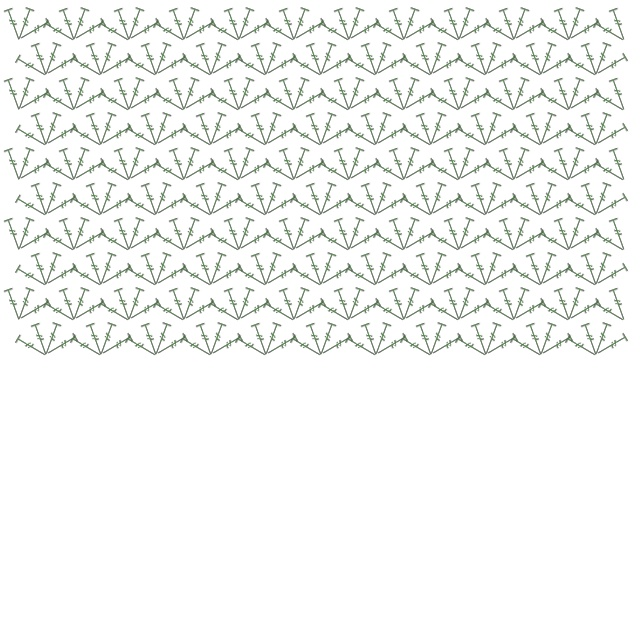fan: (17, 18, 52, 45), (43, 18, 78, 45), (72, 18, 107, 45), (98, 18, 133, 45), (127, 18, 162, 45), (153, 18, 188, 45), (182, 18, 217, 45), (208, 18, 243, 45), (237, 18, 272, 45), (263, 18, 298, 45), (292, 18, 327, 45), (318, 18, 353, 45), (347, 18, 382, 45), (373, 18, 408, 45), (402, 18, 437, 45), (428, 18, 463, 45), (457, 18, 492, 45), (483, 18, 518, 45), (512, 18, 547, 45), (538, 18, 573, 45), (567, 18, 602, 45), (593, 18, 628, 45), (15, 53, 50, 80), (44, 53, 79, 80), (70, 53, 105, 80), (99, 53, 134, 80), (125, 53, 160, 80), (154, 53, 189, 80), (180, 53, 215, 80), (209, 53, 244, 80), (235, 53, 270, 80), (264, 53, 299, 80), (290, 53, 325, 80), (319, 53, 354, 80), (345, 53, 380, 80), (374, 53, 409, 80), (400, 53, 435, 80), (429, 53, 464, 80), (455, 53, 490, 80), (484, 53, 519, 80), (510, 53, 545, 80), (539, 53, 574, 80), (565, 53, 600, 80), (594, 53, 629, 80), (17, 88, 52, 115), (43, 88, 78, 115), (72, 88, 107, 115), (98, 88, 133, 115), (127, 88, 162, 115), (153, 88, 188, 115), (182, 88, 217, 115), (208, 88, 243, 115), (237, 88, 272, 115), (263, 88, 298, 115), (292, 88, 327, 115), (318, 88, 353, 115), (347, 88, 382, 115), (373, 88, 408, 115), (402, 88, 437, 115), (428, 88, 463, 115), (457, 88, 492, 115), (483, 88, 518, 115), (512, 88, 547, 115), (538, 88, 573, 115), (567, 88, 602, 115), (593, 88, 628, 115), (15, 123, 50, 150), (44, 123, 79, 150), (70, 123, 105, 150), (99, 123, 134, 150), (125, 123, 160, 150), (154, 123, 189, 150), (180, 123, 215, 150), (209, 123, 244, 150), (235, 123, 270, 150), (264, 123, 299, 150), (290, 123, 325, 150), (319, 123, 354, 150), (345, 123, 380, 150), (374, 123, 409, 150), (400, 123, 435, 150), (429, 123, 464, 150), (455, 123, 490, 150), (484, 123, 519, 150), (510, 123, 545, 150), (539, 123, 574, 150), (565, 123, 600, 150), (594, 123, 629, 150), (17, 158, 52, 185), (43, 158, 78, 185), (72, 158, 107, 185), (98, 158, 133, 185), (127, 158, 162, 185), (153, 158, 188, 185), (182, 158, 217, 185), (208, 158, 243, 185), (237, 158, 272, 185), (263, 158, 298, 185), (292, 158, 327, 185), (318, 158, 353, 185), (347, 158, 382, 185), (373, 158, 408, 185), (402, 158, 437, 185), (428, 158, 463, 185), (457, 158, 492, 185), (483, 158, 518, 185), (512, 158, 547, 185), (538, 158, 573, 185), (567, 158, 602, 185), (593, 158, 628, 185), (15, 193, 50, 220), (44, 193, 79, 220), (70, 193, 105, 220), (99, 193, 134, 220), (125, 193, 160, 220), (154, 193, 189, 220), (180, 193, 215, 220), (209, 193, 244, 220), (235, 193, 270, 220), (264, 193, 299, 220), (290, 193, 325, 220), (319, 193, 354, 220), (345, 193, 380, 220), (374, 193, 409, 220), (400, 193, 435, 220), (429, 193, 464, 220), (455, 193, 490, 220), (484, 193, 519, 220), (510, 193, 545, 220), (539, 193, 574, 220), (565, 193, 600, 220), (594, 193, 629, 220), (17, 228, 52, 255), (43, 228, 78, 255), (72, 228, 107, 255), (98, 228, 133, 255), (127, 228, 162, 255), (153, 228, 188, 255), (182, 228, 217, 255), (208, 228, 243, 255), (237, 228, 272, 255), (263, 228, 298, 255), (292, 228, 327, 255), (318, 228, 353, 255), (347, 228, 382, 255), (373, 228, 408, 255), (402, 228, 437, 255), (428, 228, 463, 255), (457, 228, 492, 255), (483, 228, 518, 255), (512, 228, 547, 255), (538, 228, 573, 255), (567, 228, 602, 255), (593, 228, 628, 255), (15, 263, 50, 290), (44, 263, 79, 290), (70, 263, 105, 290), (99, 263, 134, 290), (125, 263, 160, 290), (154, 263, 189, 290), (180, 263, 215, 290), (209, 263, 244, 290), (235, 263, 270, 290), (264, 263, 299, 290), (290, 263, 325, 290), (319, 263, 354, 290), (345, 263, 380, 290), (374, 263, 409, 290), (400, 263, 435, 290), (429, 263, 464, 290), (455, 263, 490, 290), (484, 263, 519, 290), (510, 263, 545, 290), (539, 263, 574, 290), (565, 263, 600, 290), (594, 263, 629, 290), (17, 298, 52, 325), (43, 298, 78, 325), (72, 298, 107, 325), (98, 298, 133, 325), (127, 298, 162, 325), (153, 298, 188, 325), (182, 298, 217, 325), (208, 298, 243, 325), (237, 298, 272, 325), (263, 298, 298, 325), (292, 298, 327, 325), (318, 298, 353, 325), (347, 298, 382, 325), (373, 298, 408, 325), (402, 298, 437, 325), (428, 298, 463, 325), (457, 298, 492, 325), (483, 298, 518, 325), (512, 298, 547, 325), (538, 298, 573, 325), (567, 298, 602, 325), (593, 298, 628, 325), (15, 333, 50, 360), (44, 333, 79, 360), (70, 333, 105, 360), (99, 333, 134, 360), (125, 333, 160, 360), (154, 333, 189, 360), (180, 333, 215, 360), (209, 333, 244, 360), (235, 333, 270, 360), (264, 333, 299, 360), (290, 333, 325, 360), (319, 333, 354, 360), (345, 333, 380, 360), (374, 333, 409, 360), (400, 333, 435, 360), (429, 333, 464, 360), (455, 333, 490, 360), (484, 333, 519, 360), (510, 333, 545, 360), (539, 333, 574, 360), (565, 333, 600, 360), (594, 333, 629, 360), (3, 6, 26, 42), (14, 6, 37, 42), (58, 6, 81, 42), (69, 6, 92, 42), (113, 6, 136, 42), (124, 6, 147, 42), (168, 6, 191, 42), (179, 6, 202, 42), (223, 6, 246, 42), (234, 6, 257, 42), (278, 6, 301, 42), (289, 6, 312, 42), (333, 6, 356, 42), (344, 6, 367, 42), (388, 6, 411, 42), (399, 6, 422, 42), (443, 6, 466, 42), (454, 6, 477, 42), (498, 6, 521, 42), (509, 6, 532, 42), (553, 6, 576, 42), (564, 6, 587, 42), (608, 6, 631, 42), (30, 41, 53, 77), (41, 41, 64, 77), (85, 41, 108, 77), (96, 41, 119, 77), (140, 41, 163, 77), (151, 41, 174, 77), (195, 41, 218, 77), (206, 41, 229, 77), (250, 41, 273, 77), (261, 41, 284, 77), (305, 41, 328, 77), (316, 41, 339, 77), (360, 41, 383, 77), (371, 41, 394, 77), (415, 41, 438, 77), (426, 41, 449, 77), (470, 41, 493, 77), (481, 41, 504, 77), (525, 41, 548, 77), (536, 41, 559, 77), (580, 41, 603, 77), (591, 41, 614, 77), (3, 76, 26, 112), (14, 76, 37, 112), (58, 76, 81, 112), (69, 76, 92, 112), (113, 76, 136, 112), (124, 76, 147, 112), (168, 76, 191, 112), (179, 76, 202, 112), (223, 76, 246, 112), (234, 76, 257, 112), (278, 76, 301, 112), (289, 76, 312, 112), (333, 76, 356, 112), (344, 76, 367, 112), (388, 76, 411, 112), (399, 76, 422, 112), (443, 76, 466, 112), (454, 76, 477, 112), (498, 76, 521, 112), (509, 76, 532, 112), (553, 76, 576, 112), (564, 76, 587, 112), (608, 76, 631, 112), (30, 111, 53, 147), (41, 111, 64, 147), (85, 111, 108, 147), (96, 111, 119, 147), (140, 111, 163, 147), (151, 111, 174, 147), (195, 111, 218, 147), (206, 111, 229, 147), (250, 111, 273, 147), (261, 111, 284, 147), (305, 111, 328, 147), (316, 111, 339, 147), (360, 111, 383, 147), (371, 111, 394, 147), (415, 111, 438, 147), (426, 111, 449, 147), (470, 111, 493, 147), (481, 111, 504, 147), (525, 111, 548, 147), (536, 111, 559, 147), (580, 111, 603, 147), (591, 111, 614, 147), (3, 146, 26, 182), (14, 146, 37, 182), (58, 146, 81, 182), (69, 146, 92, 182), (113, 146, 136, 182), (124, 146, 147, 182), (168, 146, 191, 182), (179, 146, 202, 182), (223, 146, 246, 182), (234, 146, 257, 182), (278, 146, 301, 182), (289, 146, 312, 182), (333, 146, 356, 182), (344, 146, 367, 182), (388, 146, 411, 182), (399, 146, 422, 182), (443, 146, 466, 182), (454, 146, 477, 182), (498, 146, 521, 182), (509, 146, 532, 182), (553, 146, 576, 182), (564, 146, 587, 182), (608, 146, 631, 182), (30, 181, 53, 217), (41, 181, 64, 217), (85, 181, 108, 217), (96, 181, 119, 217), (140, 181, 163, 217), (151, 181, 174, 217), (195, 181, 218, 217), (206, 181, 229, 217), (250, 181, 273, 217), (261, 181, 284, 217), (305, 181, 328, 217), (316, 181, 339, 217), (360, 181, 383, 217), (371, 181, 394, 217), (415, 181, 438, 217), (426, 181, 449, 217), (470, 181, 493, 217), (481, 181, 504, 217), (525, 181, 548, 217), (536, 181, 559, 217), (580, 181, 603, 217), (591, 181, 614, 217), (3, 216, 26, 252), (14, 216, 37, 252), (58, 216, 81, 252), (69, 216, 92, 252), (113, 216, 136, 252), (124, 216, 147, 252), (168, 216, 191, 252), (179, 216, 202, 252), (223, 216, 246, 252), (234, 216, 257, 252), (278, 216, 301, 252), (289, 216, 312, 252), (333, 216, 356, 252), (344, 216, 367, 252), (388, 216, 411, 252), (399, 216, 422, 252), (443, 216, 466, 252), (454, 216, 477, 252), (498, 216, 521, 252), (509, 216, 532, 252), (553, 216, 576, 252), (564, 216, 587, 252), (608, 216, 631, 252), (30, 251, 53, 287), (41, 251, 64, 287), (85, 251, 108, 287), (96, 251, 119, 287), (140, 251, 163, 287), (151, 251, 174, 287), (195, 251, 218, 287), (206, 251, 229, 287), (250, 251, 273, 287), (261, 251, 284, 287), (305, 251, 328, 287), (316, 251, 339, 287), (360, 251, 383, 287), (371, 251, 394, 287), (415, 251, 438, 287), (426, 251, 449, 287), (470, 251, 493, 287), (481, 251, 504, 287), (525, 251, 548, 287), (536, 251, 559, 287), (580, 251, 603, 287), (591, 251, 614, 287), (3, 286, 26, 322), (14, 286, 37, 322), (58, 286, 81, 322), (69, 286, 92, 322), (113, 286, 136, 322), (124, 286, 147, 322), (168, 286, 191, 322), (179, 286, 202, 322), (223, 286, 246, 322), (234, 286, 257, 322), (278, 286, 301, 322), (289, 286, 312, 322), (333, 286, 356, 322), (344, 286, 367, 322), (388, 286, 411, 322), (399, 286, 422, 322), (443, 286, 466, 322), (454, 286, 477, 322), (498, 286, 521, 322), (509, 286, 532, 322), (553, 286, 576, 322), (564, 286, 587, 322), (608, 286, 631, 322), (30, 321, 53, 357), (41, 321, 64, 357), (85, 321, 108, 357), (96, 321, 119, 357), (140, 321, 163, 357), (151, 321, 174, 357), (195, 321, 218, 357), (206, 321, 229, 357), (250, 321, 273, 357), (261, 321, 284, 357), (305, 321, 328, 357), (316, 321, 339, 357), (360, 321, 383, 357), (371, 321, 394, 357), (415, 321, 438, 357), (426, 321, 449, 357), (470, 321, 493, 357), (481, 321, 504, 357), (525, 321, 548, 357), (536, 321, 559, 357), (580, 321, 603, 357), (591, 321, 614, 357)
